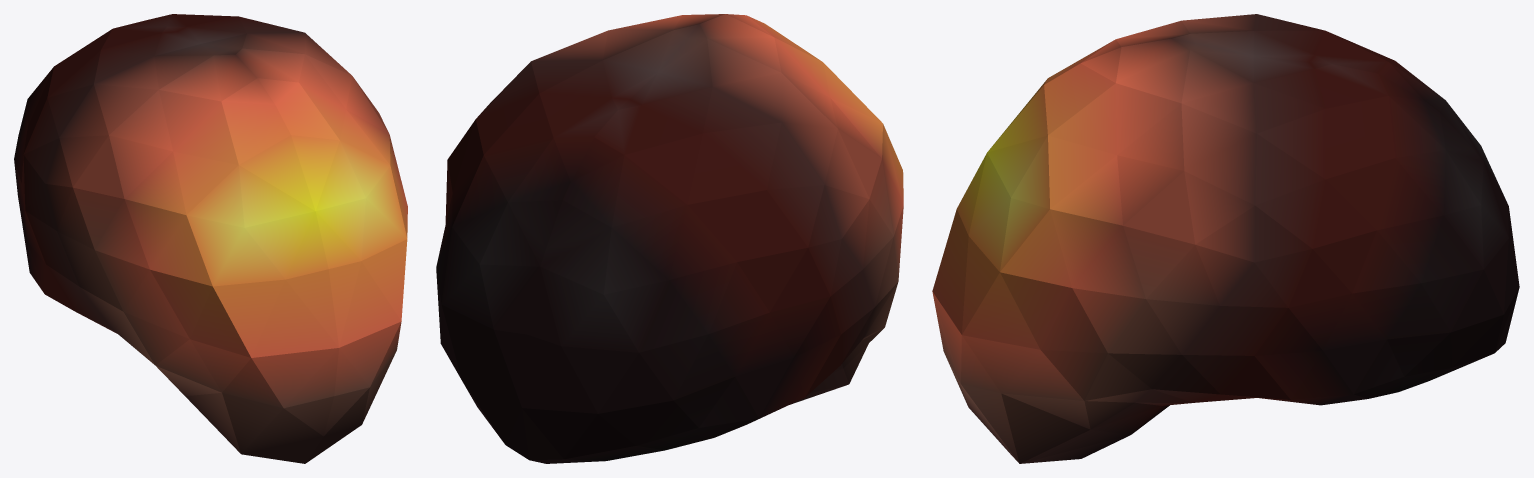
Rendered from skullhead.glb.
3 views of the same model, side by side, from view 1: azimuth 30°, elevation 25°; view 2: azimuth 150°, elevation 25°; view 3: azimuth 270°, elevation 25° (orthographic). The views are drawn at different scales.
Visible parts, largest first — view 1: Icosphere; view 2: Icosphere; view 3: Icosphere.
Boxes of the visible parts, x1,y1,x2,y2 form: Icosphere: (14,14,407,463); Icosphere: (436,14,903,463); Icosphere: (932,14,1519,463).
Size of the model in its own units: 1.63 by 1.76 by 2.22.
